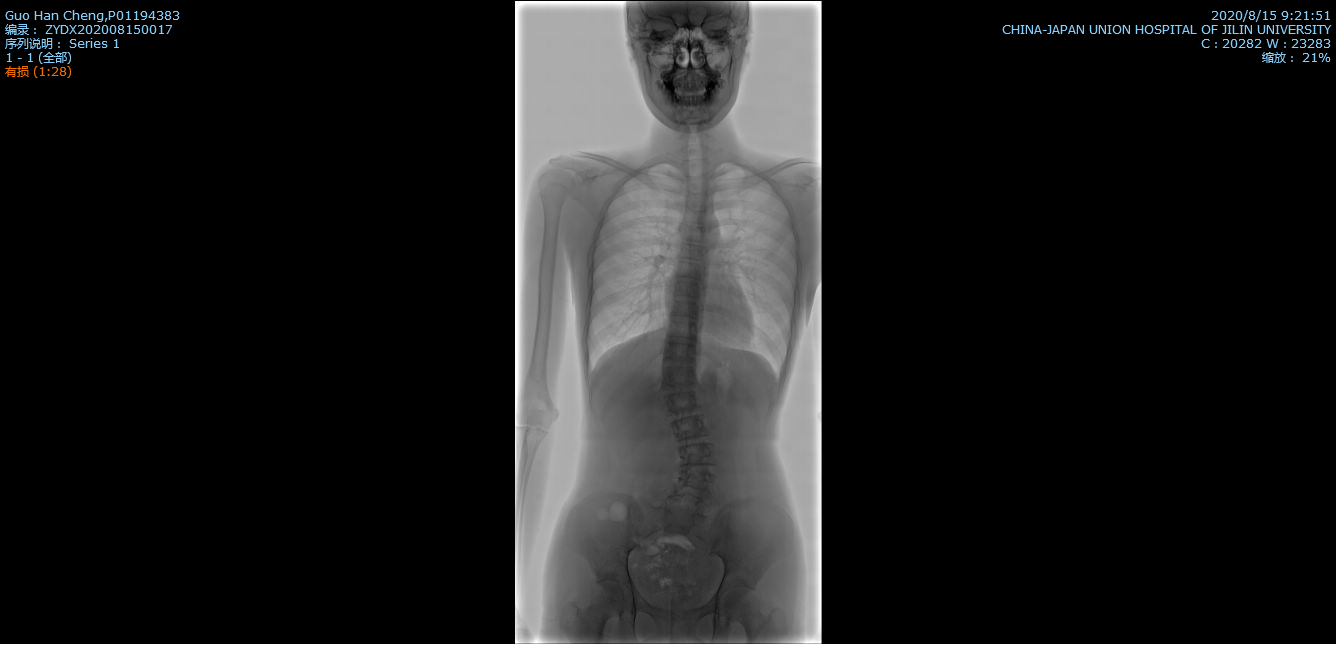胸10椎体: (668, 320, 698, 337)
胸11椎体: (664, 342, 695, 360)
胸12椎体: (662, 366, 695, 387)
胸6椎体: (682, 243, 706, 261)
胸7椎体: (674, 259, 704, 275)
胸8椎体: (676, 280, 700, 296)
胸9椎体: (671, 302, 699, 318)
腰1椎体: (666, 393, 696, 412)
腰2椎体: (672, 415, 702, 439)
腰3椎体: (680, 445, 713, 463)
腰4椎体: (681, 469, 712, 486)
腰5椎体: (673, 488, 707, 506)
